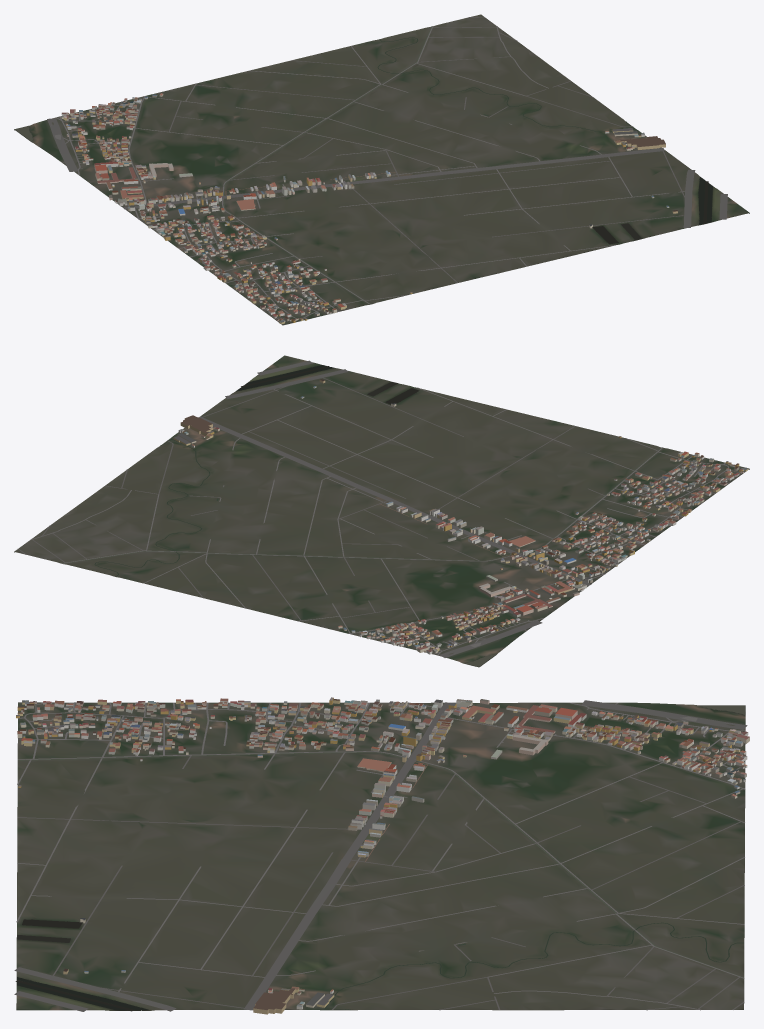
3 views of the same model, one above another, from view 1: azimuth 30°, elevation 25°; view 2: azimuth 150°, elevation 25°; view 3: azimuth 270°, elevation 25° (orthographic). The views are drawn at different scales.
Visible parts, largest first — view 1: ground, buildings, roads, water; view 2: ground, buildings, roads, water; view 3: ground, buildings, roads, water.
Part boxes in pixels (box(x1,y1,x2,y2)): ground: box(14, 14, 749, 325); buildings: box(61, 93, 677, 324); roads: box(47, 17, 727, 319); water: box(15, 26, 712, 303); ground: box(14, 355, 749, 667); buildings: box(173, 379, 748, 654); roads: box(18, 360, 740, 657); water: box(63, 365, 661, 666); ground: box(16, 702, 745, 1010); buildings: box(16, 697, 749, 1014); roads: box(14, 700, 747, 1011); water: box(15, 705, 745, 1011).
Size of the model in its own units: 1428 by 24.22 by 1418.
